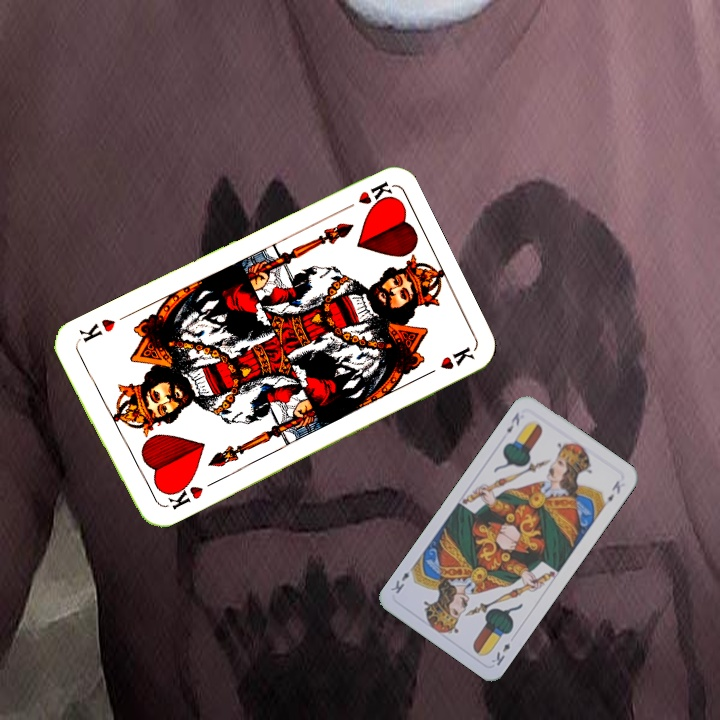EK: (487, 639, 513, 669), (502, 408, 522, 435)
HK: (336, 177, 395, 215), (161, 476, 206, 512)
